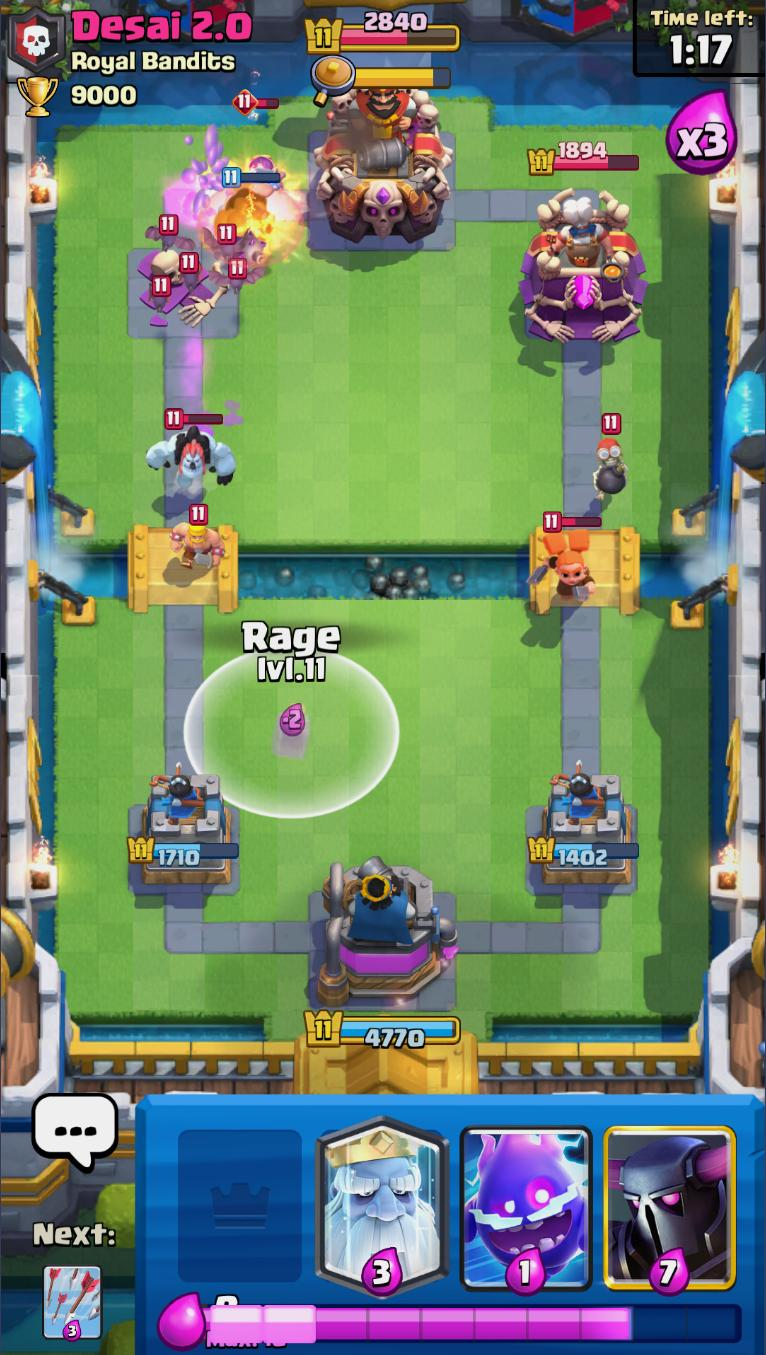ArrowNext: (41, 1264, 103, 1315)
Barbarian: (168, 503, 227, 571)
Bat: (209, 257, 269, 296), (144, 213, 196, 256), (202, 221, 252, 260), (174, 251, 204, 292), (148, 274, 175, 314)
Berserker: (531, 510, 603, 604)
Bomber: (591, 413, 631, 501)
Chef: (553, 198, 616, 277)
ElectroSpiritDeck: (455, 1096, 598, 1295)
Elixir: (204, 1293, 747, 1350)
Empty: (166, 1095, 313, 1287)
EnemyTower: (517, 186, 649, 348)
EnemyTowerBrocken: (122, 240, 243, 340)
EvoBomber: (232, 89, 284, 172)
IceGolem: (147, 407, 240, 492)
KingTower: (312, 82, 455, 245)
KingTowerHP: (303, 9, 463, 56)
MyKingHP: (300, 1006, 462, 1051)
MyKingTower: (316, 851, 462, 1009)
MyPrincessTower: (125, 770, 242, 892), (528, 775, 639, 894)
MyPrincessTowerHP: (528, 833, 642, 869), (128, 834, 244, 868)
PekkaDeck: (601, 1096, 741, 1296)
RoyaleGhostDeck: (308, 1098, 451, 1296)
TowerPrincessHP: (527, 140, 643, 179)
